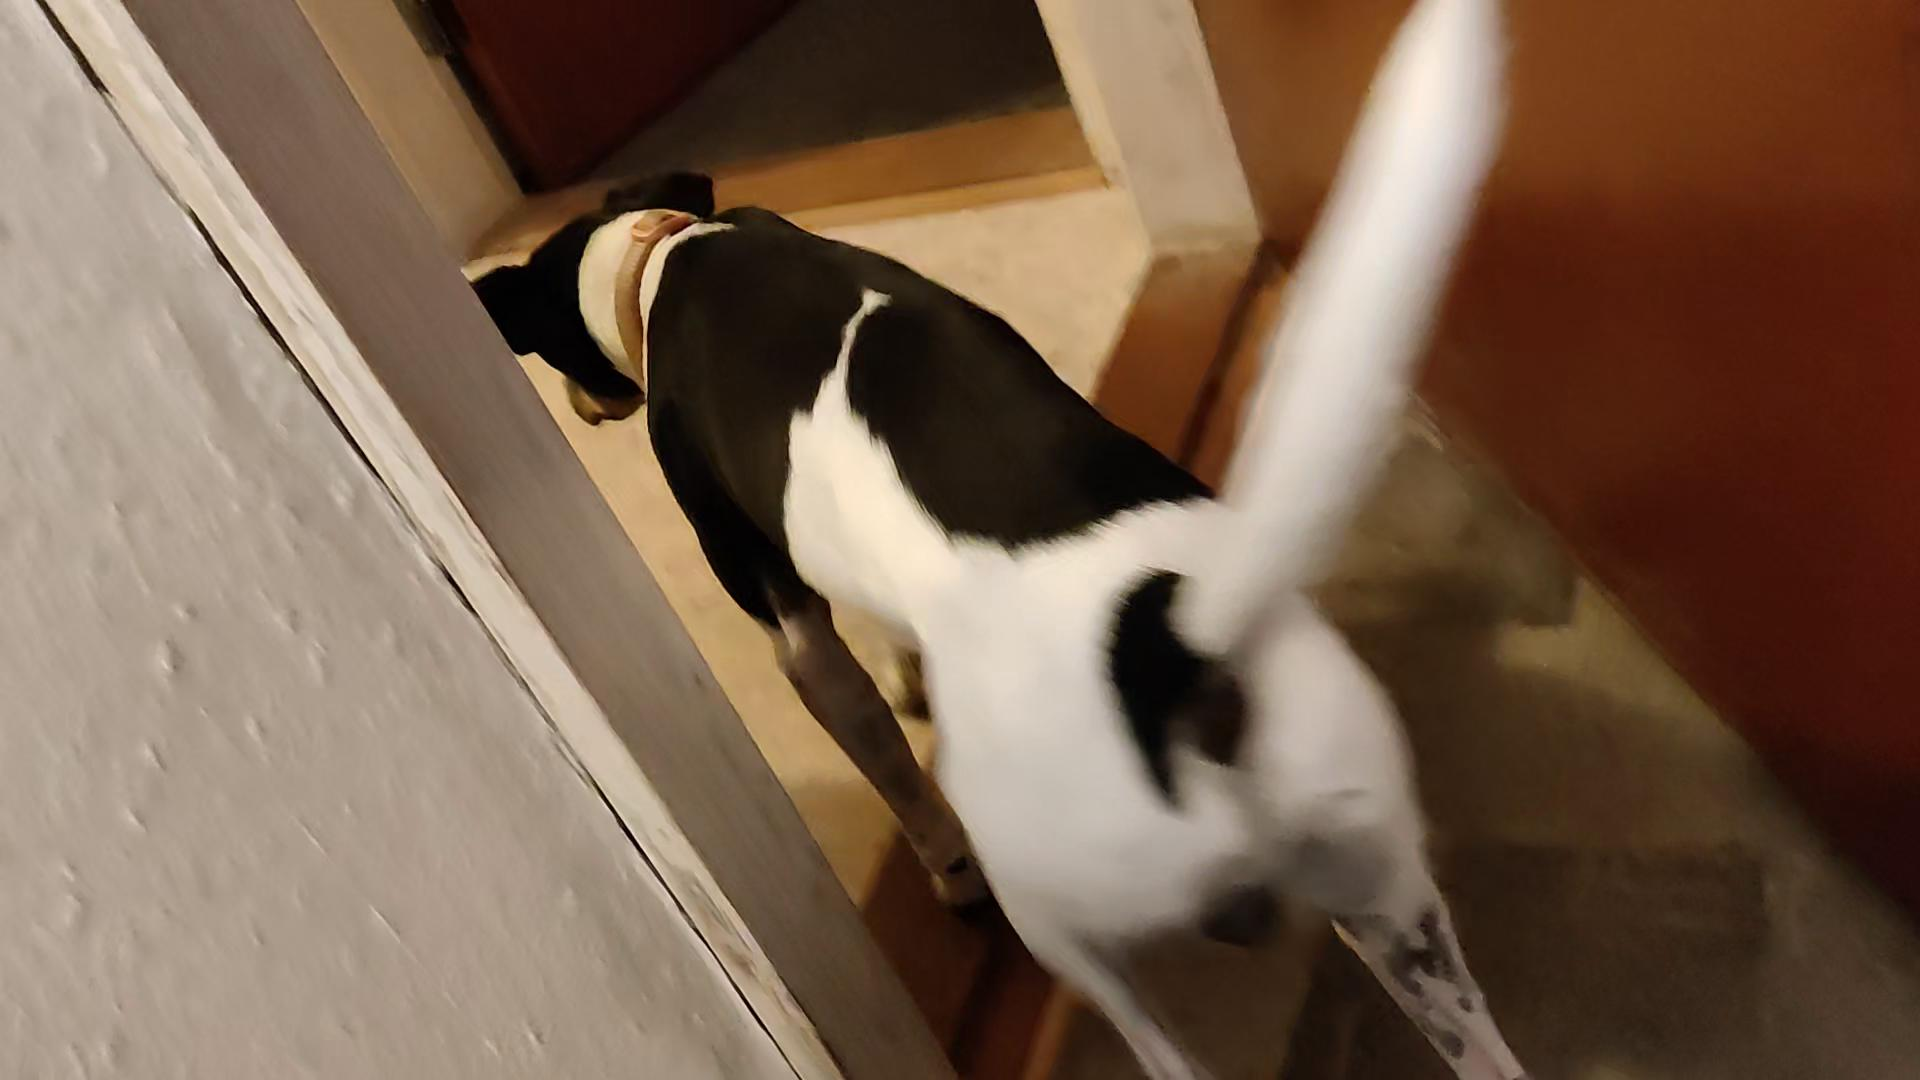Dog: (465, 0, 1543, 1079)
